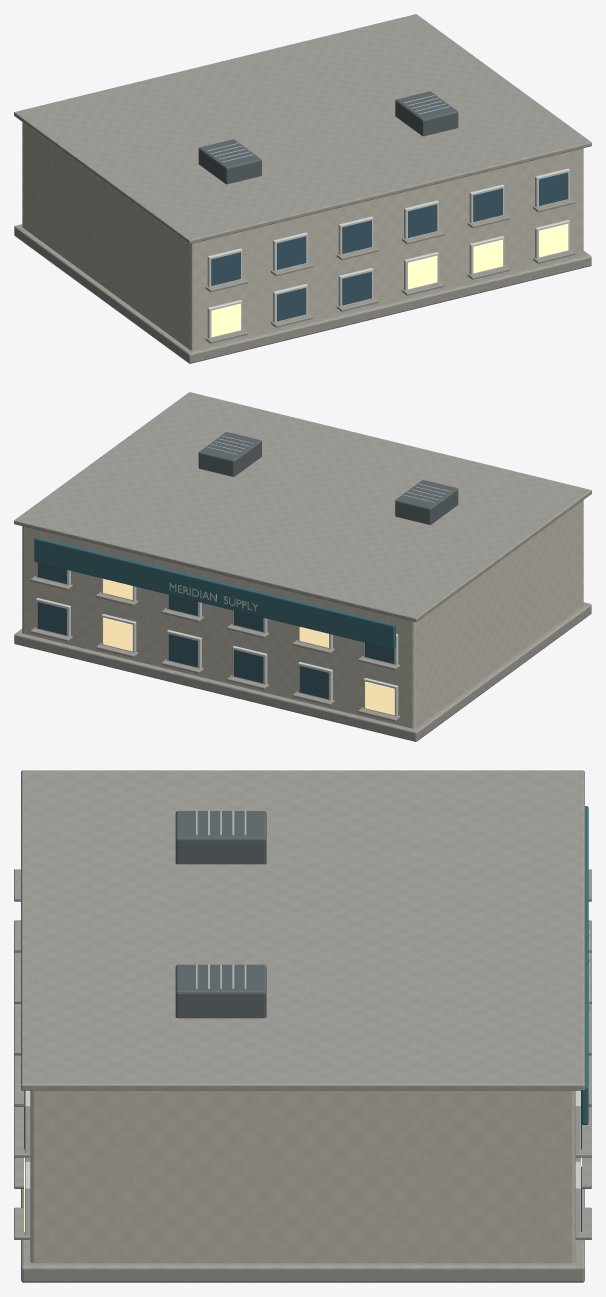
The model's file is mc_shop.glb.
3 renders of one model, top to bottom at view 1: azimuth 30°, elevation 25°; view 2: azimuth 150°, elevation 25°; view 3: azimuth 270°, elevation 25°, orthographic. The views are drawn at different scales.
Parts seen in each view (by area): view 1: mc_shop__Geometry; view 2: mc_shop__Geometry; view 3: mc_shop__Geometry.
Boxes of the visible parts, x1,y1,x2,y2 form: mc_shop__Geometry: (14,14,591,363); mc_shop__Geometry: (14,392,591,741); mc_shop__Geometry: (14,770,591,1282).
Size of the model in its own units: 24.6 by 8.24 by 19.07.
8 materials, 2 textured.
